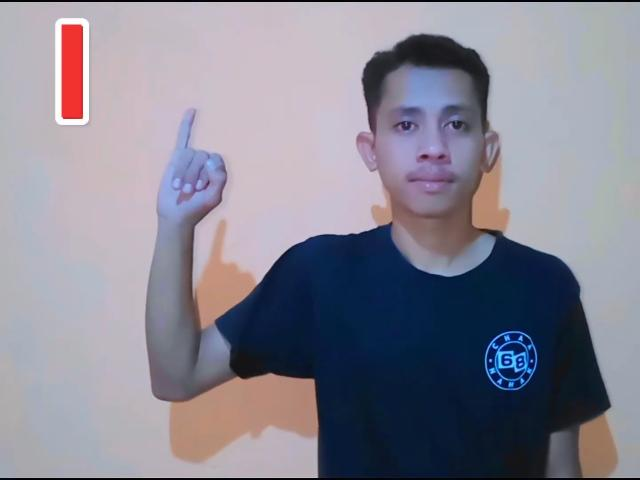I: (150, 104, 230, 232)
